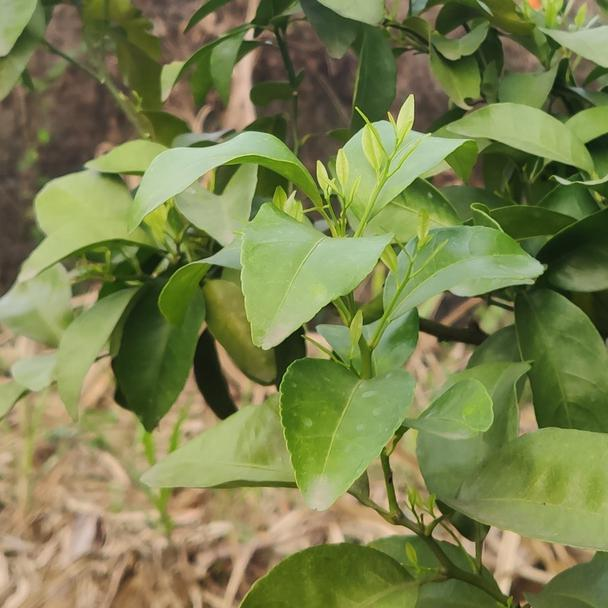shoot: (347, 106, 430, 223), (374, 220, 448, 335)
